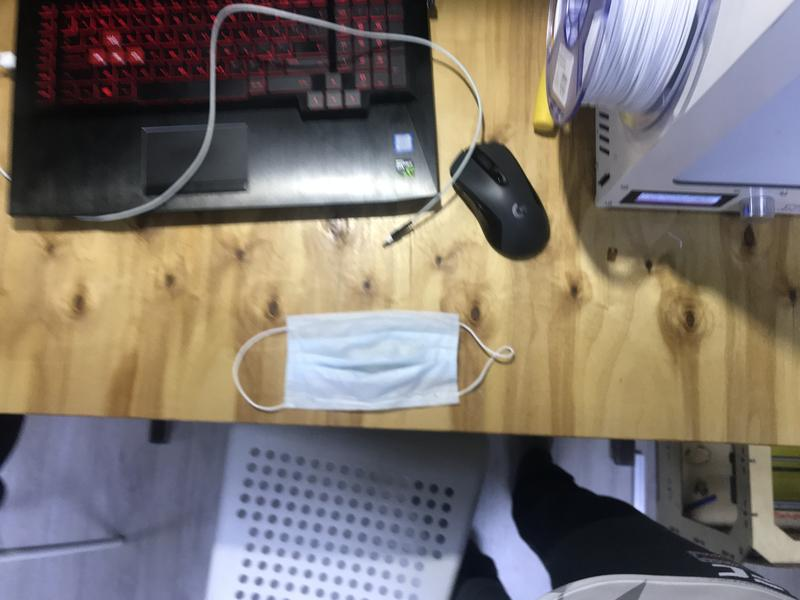medical_mask: (232, 312, 513, 413)
